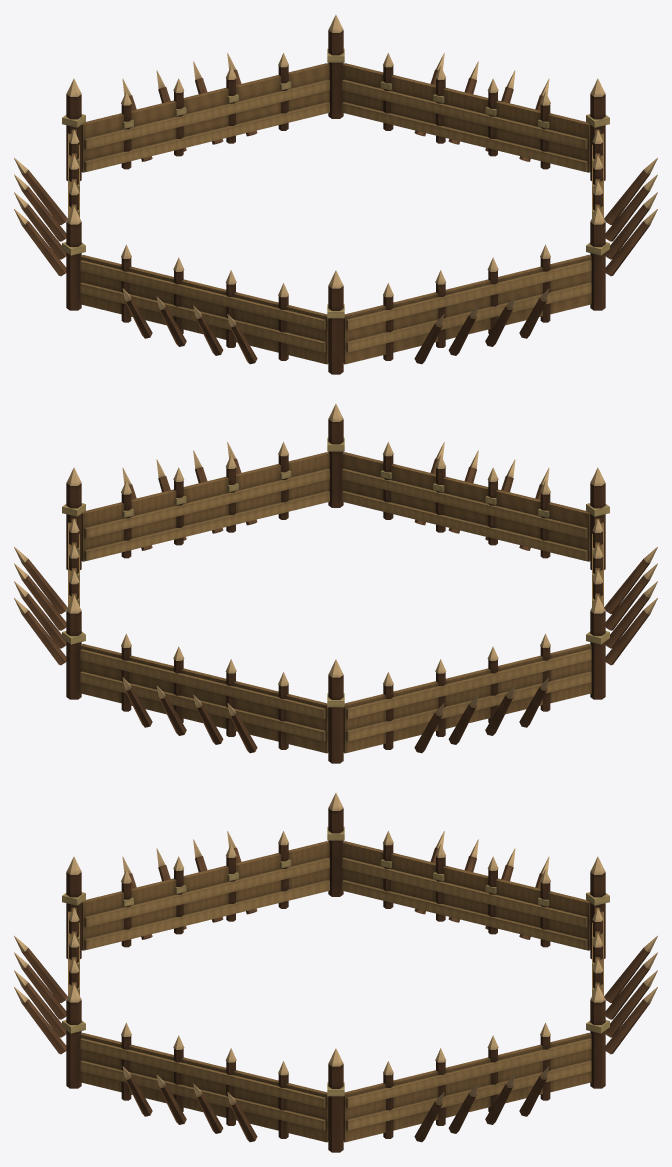
Rendered from fort_l1.glb.
The picture shows the model from 3 angles, top to bottom: view 1: azimuth 30°, elevation 25°; view 2: azimuth 150°, elevation 25°; view 3: azimuth 270°, elevation 25°; orthographic projection.
Parts seen in each view (by area): view 1: fort_l1; view 2: fort_l1; view 3: fort_l1.
Boxes of the visible parts, box(x1,y1,x2,y2) form: fort_l1: box(14, 15, 657, 374); fort_l1: box(14, 404, 657, 763); fort_l1: box(14, 793, 657, 1152).
Bounding box in the file's own units: 1.77 × 0.3392 × 1.83.
Materials: 1 (1 with a texture image).
